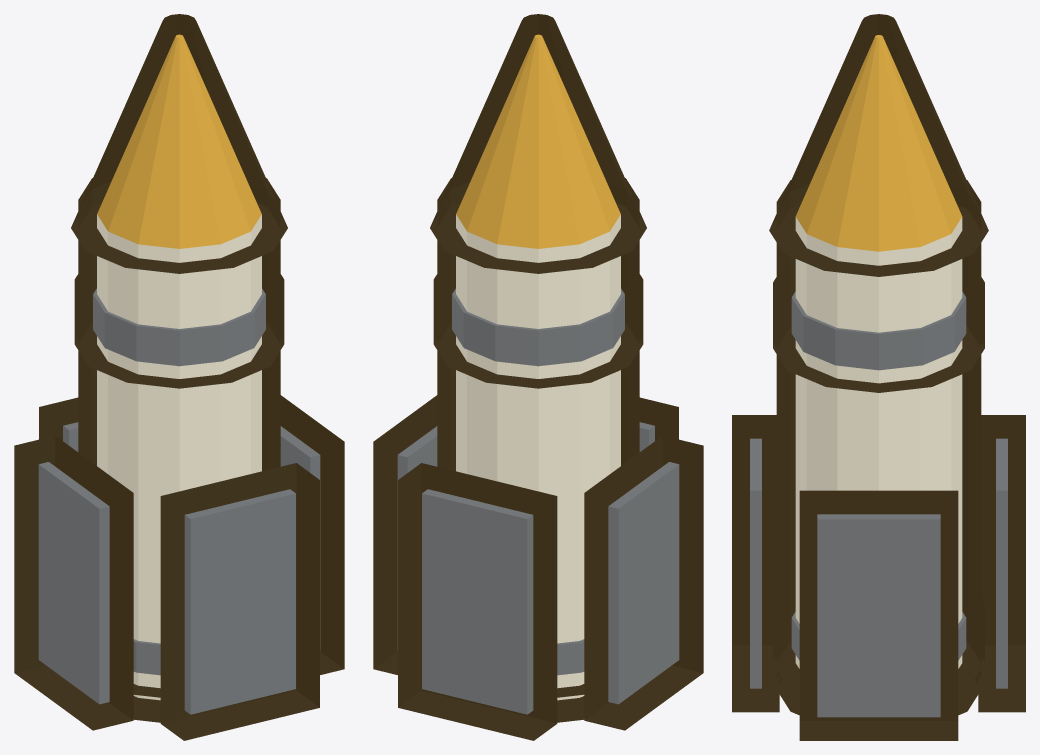
File: missile.glb
3 views of the same model, side by side, from view 1: azimuth 30°, elevation 25°; view 2: azimuth 150°, elevation 25°; view 3: azimuth 270°, elevation 25° (orthographic).
Parts seen in each view (by area): view 1: Silo_Missile; view 2: Silo_Missile; view 3: Silo_Missile.
Part boxes in pixels (x1,y1,x2,y2): Silo_Missile: (14, 14, 344, 740); Silo_Missile: (373, 14, 703, 740); Silo_Missile: (732, 14, 1025, 740).
Bounding box in the file's own units: 1.48 × 3.72 × 1.48.
2 materials, 1 textured.
